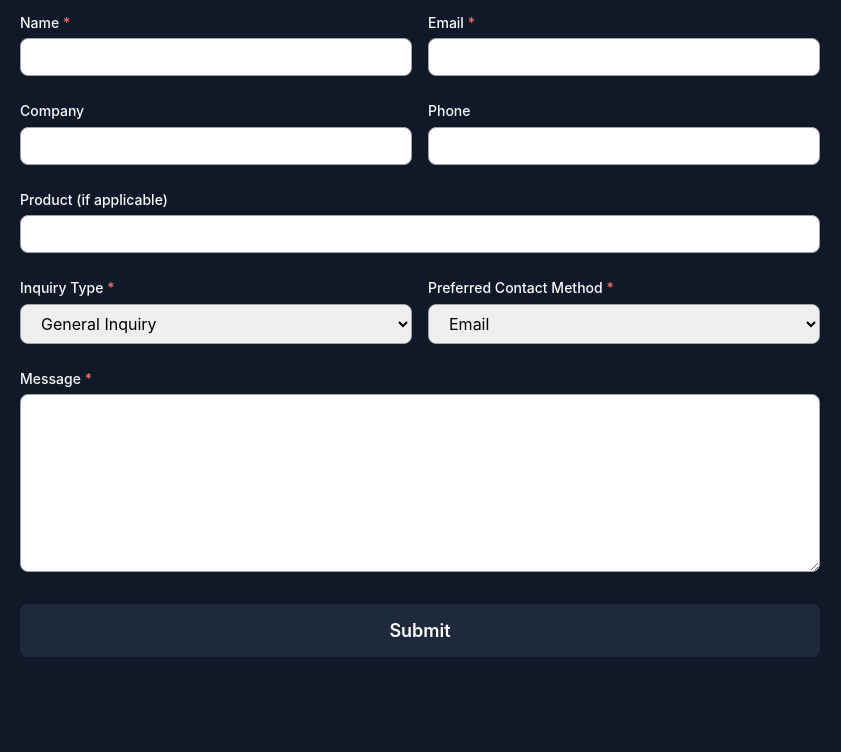
Test: ContactForm Error Handling › should handle network errors
This screenshot has width=841, height=752.
Type "John Doe" into the field labelled "Name *" at (216, 57), box [20, 38, 412, 76]
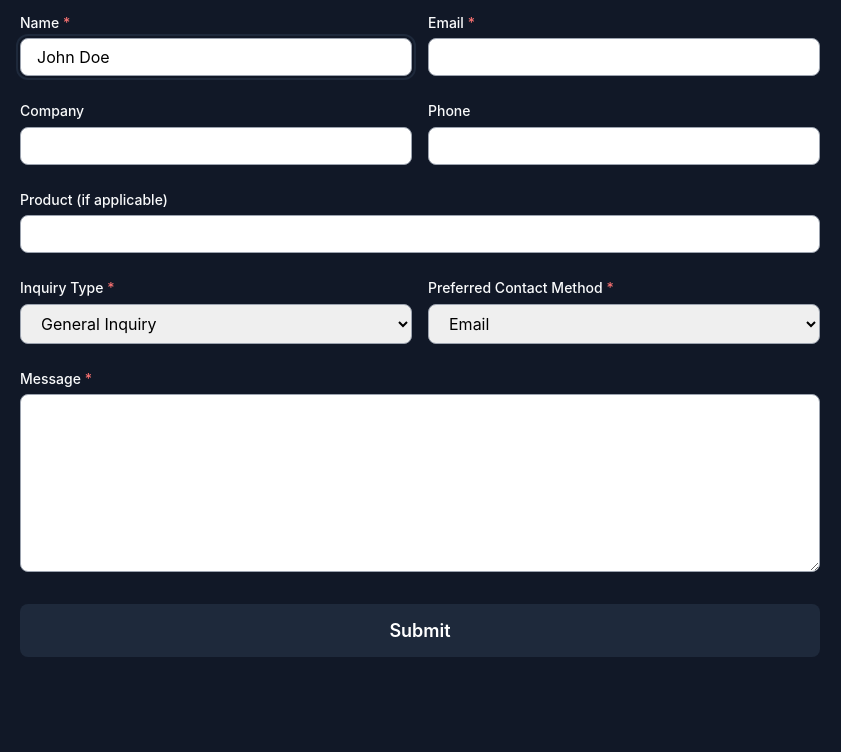
Type "john@example.com" into the field labelled "Email *" at (624, 57), box [428, 38, 820, 76]
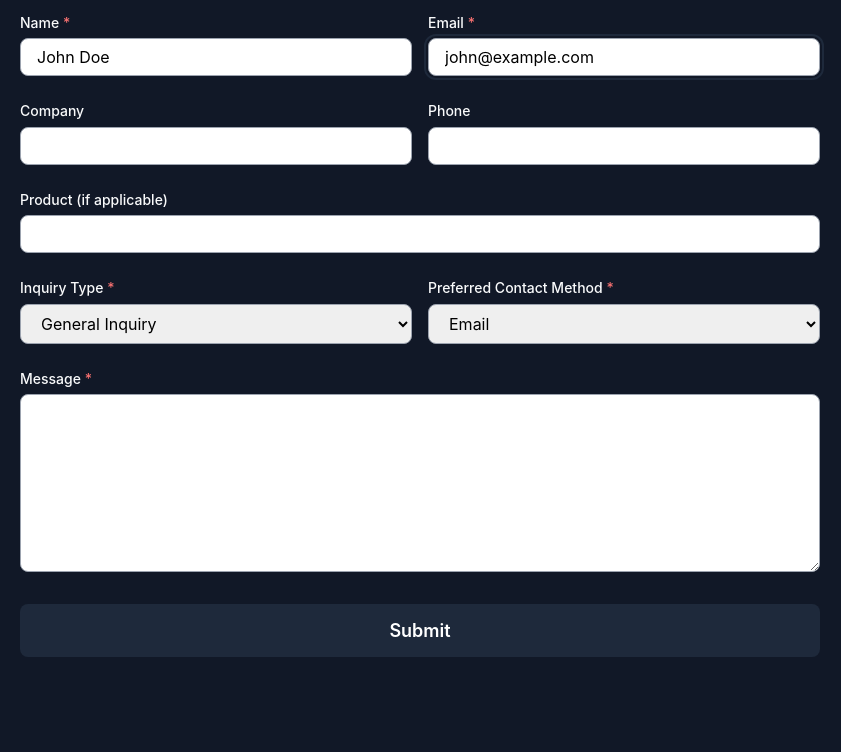
Type "This is a test message with enough characters." into the text box labelled "Message *" at (420, 483), box [20, 394, 820, 572]
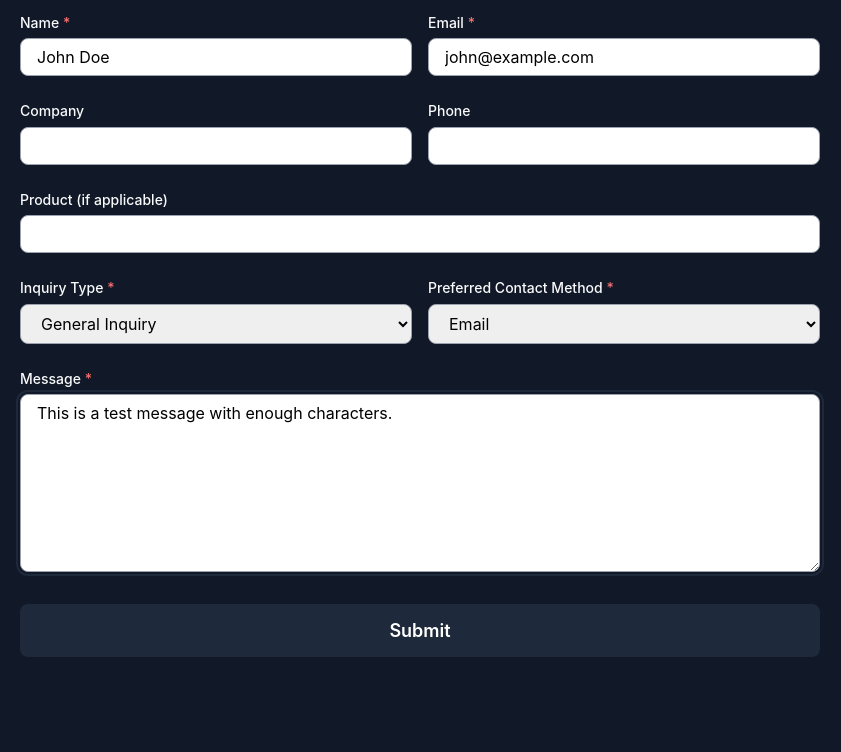
Click the button "Submit" at (420, 630), box [20, 604, 820, 656]
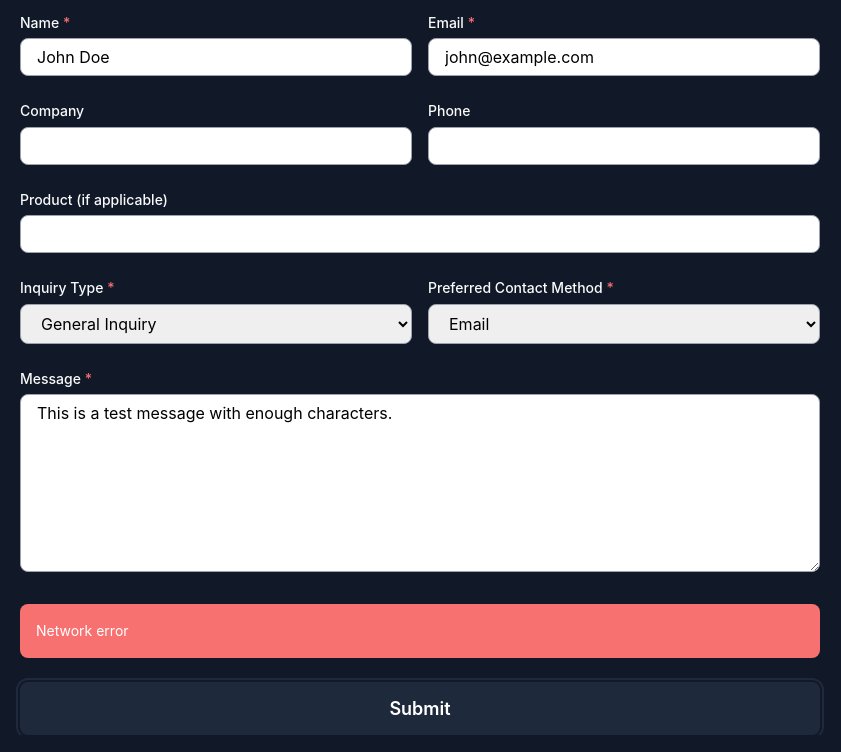
Expected: the text "Network error" is shown, [20, 604, 820, 658]
